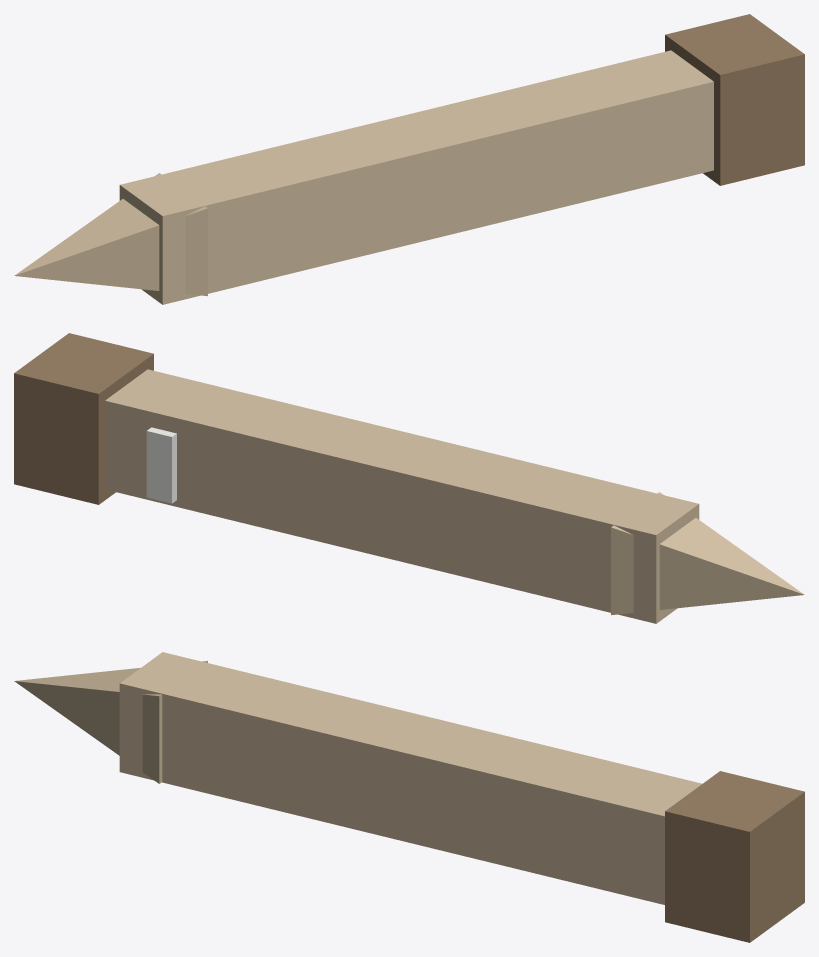
Rendered from prop-tent-stake-blank.fbx.
The picture shows the model from 3 angles, top to bottom: view 1: azimuth 30°, elevation 25°; view 2: azimuth 150°, elevation 25°; view 3: azimuth 330°, elevation 25°; orthographic projection.
Visible parts, largest first — view 1: prop-tent-stake-blank; view 2: prop-tent-stake-blank; view 3: prop-tent-stake-blank.
Boxes of the visible parts, left/top/right/bottom form: prop-tent-stake-blank: left=14, top=14, right=804, bottom=304; prop-tent-stake-blank: left=14, top=333, right=804, bottom=623; prop-tent-stake-blank: left=14, top=652, right=804, bottom=942.
Bounding box in the file's own units: 36 × 5 × 4.75.
